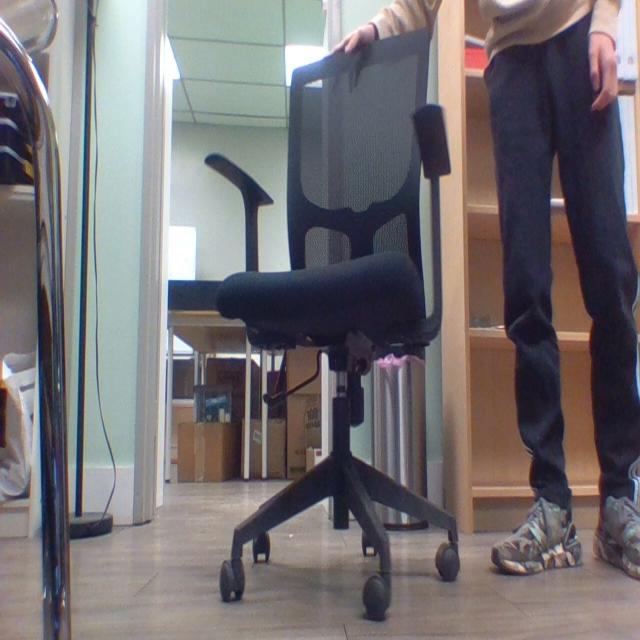black-chair: (197, 32, 465, 615)
